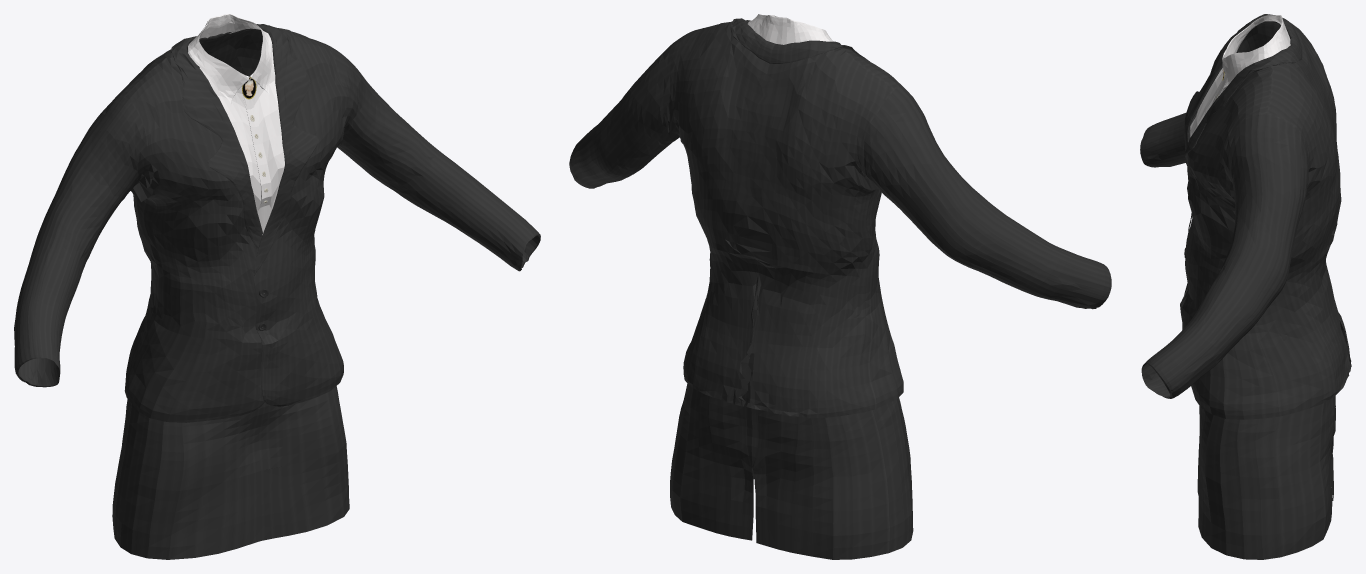
Rendered from mhw_toigo_female_suit.glb.
3 views of the same model, side by side, from view 1: azimuth 30°, elevation 25°; view 2: azimuth 150°, elevation 25°; view 3: azimuth 270°, elevation 25° (orthographic). The views are drawn at different scales.
Visible parts, largest first — view 1: mhw_toigo_female_suit; view 2: mhw_toigo_female_suit; view 3: mhw_toigo_female_suit.
Boxes of the visible parts, bbox=[...] form: mhw_toigo_female_suit: bbox=[14, 14, 540, 559]; mhw_toigo_female_suit: bbox=[569, 14, 1111, 559]; mhw_toigo_female_suit: bbox=[1140, 14, 1351, 559].
Bounding box in the file's own units: 1.12 × 1.02 × 0.4005.
1 material, 1 textured.
